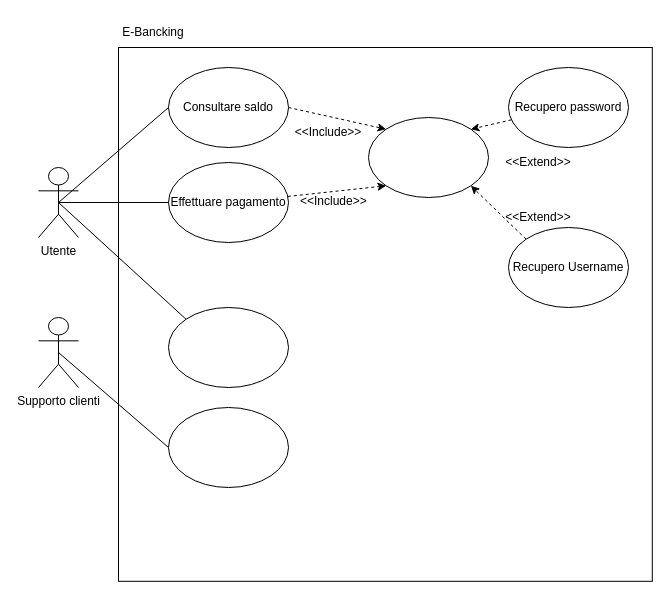
Some shapes in this 670 by 599 pixel diagram are drawn without their labels. Here are the shapes that lost their labels. From the top down, the centre of each, then its label:
point (428, 157): Effettuare login
point (228, 347): compilare formulario
point (228, 447): Notifica formulario
